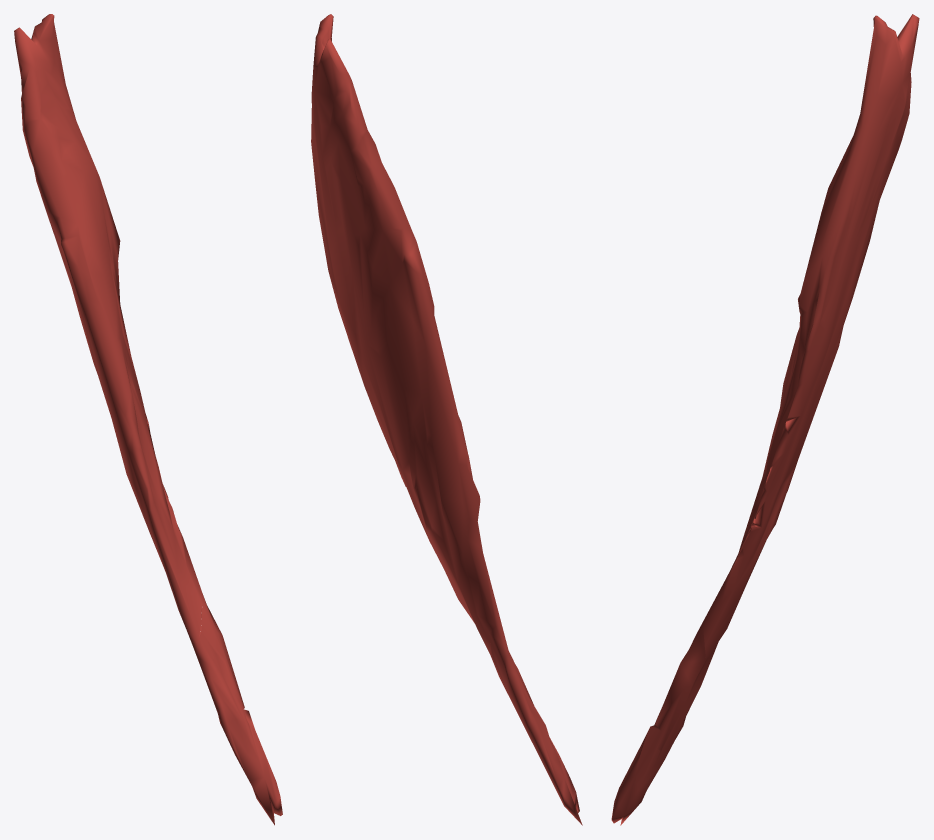
The model's file is musculos-ulnar-head-of-flexor-carpi-ulnaris-r.glb.
The picture shows the model from 3 angles, left to right: view 1: azimuth 90°, elevation 25°; view 2: azimuth 150°, elevation 25°; view 3: azimuth 270°, elevation 25°; orthographic projection. The views are drawn at different scales.
Visible parts, largest first — view 1: Ulnar head of flexor carpi ulnaris.r; view 2: Ulnar head of flexor carpi ulnaris.r; view 3: Ulnar head of flexor carpi ulnaris.r.
Boxes of the visible parts, left/top/right/bottom form: Ulnar head of flexor carpi ulnaris.r: left=14, top=14, right=282, bottom=825; Ulnar head of flexor carpi ulnaris.r: left=311, top=14, right=582, bottom=825; Ulnar head of flexor carpi ulnaris.r: left=611, top=14, right=919, bottom=825.
Size of the model in its own units: 0.0417 by 0.2201 by 0.0706.
